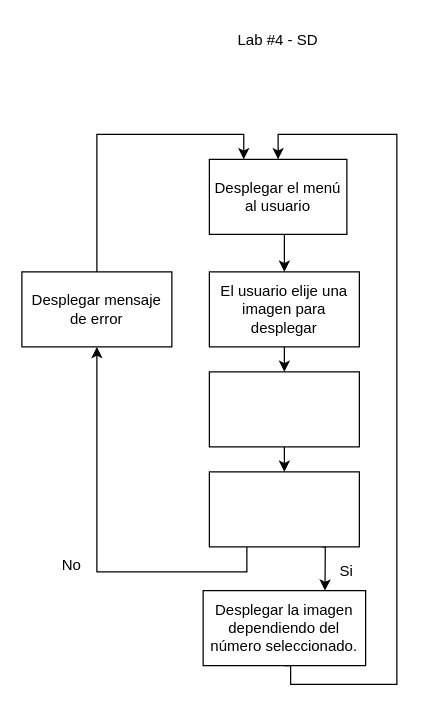
The diagram is 429 pixels wide and 716 high, and some of its shapes have lost their labels. Each missing label, with the centre of its shape:
Se lee la tarjeta SD: the point at 283,409
¿La imagen existe?: the point at 283,509
